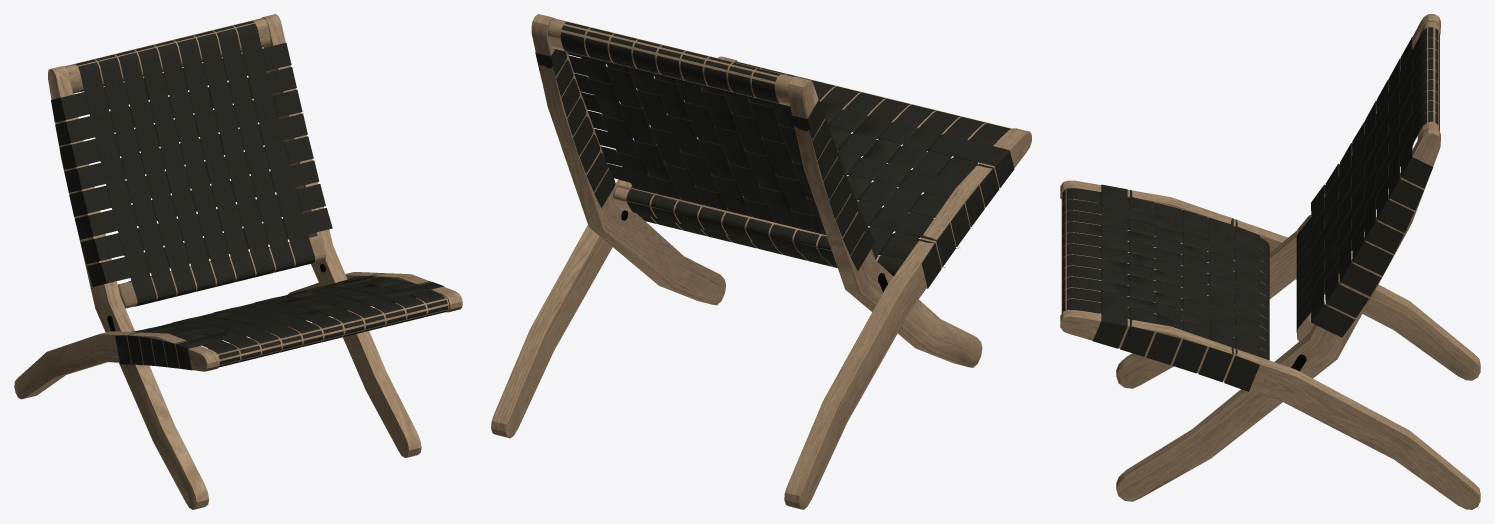
File: 0bfe4a6a-7c4a-49de-9b6b-a4e855dde193.glb
3 views of the same model, side by side, from view 1: azimuth 30°, elevation 25°; view 2: azimuth 150°, elevation 25°; view 3: azimuth 270°, elevation 25° (orthographic). The views are drawn at different scales.
Parts seen in each view (by area): view 1: Plane.019, Plane.018, Plane.016, Plane.020, Plane.021, Plane.017; view 2: Plane.016, Plane.018, Plane.019, Plane.021, Plane.020, Plane.017; view 3: Plane.016, Plane.021, Plane.020, Plane.019, Plane.018, Plane.017.
Boxes of the visible parts, left/top/right/bottom form: Plane.019: left=51, top=43, right=332, bottom=286; Plane.018: left=75, top=21, right=314, bottom=306; Plane.016: left=14, top=14, right=462, bottom=509; Plane.020: left=155, top=281, right=448, bottom=367; Plane.021: left=115, top=273, right=444, bottom=370; Plane.017: left=64, top=18, right=449, bottom=365; Plane.016: left=491, top=14, right=1031, bottom=509; Plane.018: left=560, top=22, right=835, bottom=261; Plane.019: left=535, top=49, right=874, bottom=270; Plane.021: left=631, top=87, right=1014, bottom=288; Plane.020: left=637, top=62, right=1010, bottom=276; Plane.017: left=547, top=18, right=1011, bottom=266; Plane.016: left=1060, top=14, right=1480, bottom=509; Plane.021: left=1093, top=184, right=1259, bottom=391; Plane.020: left=1062, top=188, right=1269, bottom=360; Plane.019: left=1311, top=37, right=1433, bottom=337; Plane.018: left=1296, top=27, right=1439, bottom=332; Plane.017: left=1061, top=21, right=1439, bottom=351.
Size of the model in its own units: 0.6214 by 0.7575 by 0.7835.
3 materials, 2 textured.
